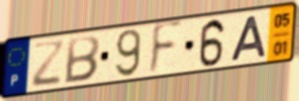6: (199, 17, 228, 68)
9: (112, 28, 143, 79)
A: (228, 14, 269, 63)
B: (62, 34, 102, 86)
F: (146, 18, 185, 79)
Z: (30, 40, 66, 90)
